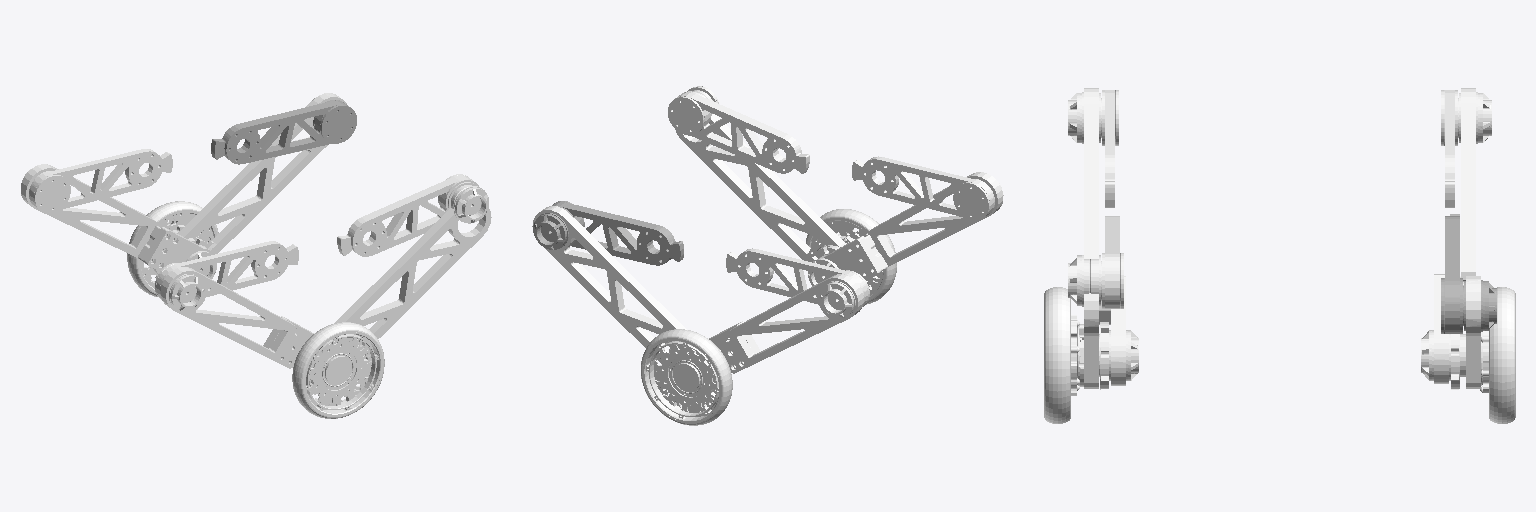
URDF robot description (infantry-rl-sim):
<?xml version='1.0' encoding='utf-8'?>
<!--
  infantry-rl-sim : Isaac Sim 5.1.0 asset for the five-bar wheel-leg.
  GENERATED by assets/infantry-rl/tools/build_sim_urdf.py . Do not hand-edit.
  Derived from infantry-rl/urdf/infantry-rl.urdf (the raw SW export, a legal tree).
  Changes, and nothing else:
    * right_*_knee / right_wheel axis signs flipped so both legs share one sign
      convention (their parent frames carry rpy 0 0 -pi; see the generator docstring)
    * hip axis noise 9.9049E-05 cleaned to 0
    * right-leg joint limit ranges re-assigned by mechanical role (the export had
      front and back swapped on that leg)
    * limits re-referenced onto the joint zero of the assembled pose
  Geometry, inertias and meshes are untouched.
  The closed loop is NOT represented here: a PhysX articulation cannot close a loop.
  It is enforced by the five-bar solver in the environment (tools/five_bar.py).
  See assets/infantry-rl/README.md .
-->
<robot name="infantry-rl-sim">
  <link name="base_link">
    <inertial>
      <origin xyz="-0.0065755 0.00014755 0.16552" rpy="0 0 0" />
      <mass value="9.3897" />
      <inertia ixx="0.011927" ixy="-1.1541E-05" ixz="6.2519E-05" iyy="0.01528" iyz="1.1611E-05" izz="0.018002" />
    </inertial>
    <visual>
      <origin xyz="0 0 0" rpy="0 0 0" />
      <geometry>
        <mesh filename="package://infantry-rl/meshes/base_link.STL" />
      </geometry>
      <material name="">
        <color rgba="0.89804 0.91765 0.92941 1" />
      </material>
    </visual>
    <collision>
      <origin xyz="0 0 0" rpy="0 0 0" />
      <geometry>
        <mesh filename="package://infantry-rl/meshes/base_link.STL" />
      </geometry>
    </collision>
  </link>
  <link name="left_front_ham">
    <inertial>
      <origin xyz="0.099289 0.0045817 -0.00068626" rpy="0 0 0" />
      <mass value="0.31578" />
      <inertia ixx="9.1866E-05" ixy="1.6076E-06" ixz="3.6232E-06" iyy="0.00073434" iyz="-1.1128E-08" izz="0.00068952" />
    </inertial>
    <visual>
      <origin xyz="0 0 0" rpy="0 0 0" />
      <geometry>
        <mesh filename="package://infantry-rl/meshes/left_front_ham.STL" />
      </geometry>
      <material name="">
        <color rgba="0.75294 0.75294 0.75294 1" />
      </material>
    </visual>
    <collision>
      <origin xyz="0 0 0" rpy="0 0 0" />
      <geometry>
        <mesh filename="package://infantry-rl/meshes/left_front_ham.STL" />
      </geometry>
    </collision>
  </link>
  <joint name="left_front_hip" type="revolute">
    <origin xyz="0.075033 0.168 0.128" rpy="0 0 0" />
    <parent link="base_link" />
    <child link="left_front_ham" />
    <axis xyz="0 1 0" />
    <limit lower="-0.184047" upper="1.305207" effort="40" velocity="16.755" />
  </joint>
  <link name="left_front_calf">
    <inertial>
      <origin xyz="-0.17027 -0.003571 -0.12119" rpy="0 0 0" />
      <mass value="0.69516" />
      <inertia ixx="0.0012193" ixy="1.2983E-06" ixz="-0.0011663" iyy="0.0032071" iyz="6.818E-07" izz="0.0020449" />
    </inertial>
    <visual>
      <origin xyz="0 0 0" rpy="0 0 0" />
      <geometry>
        <mesh filename="package://infantry-rl/meshes/left_front_calf.STL" />
      </geometry>
      <material name="">
        <color rgba="1 1 1 1" />
      </material>
    </visual>
    <collision>
      <origin xyz="0 0 0" rpy="0 0 0" />
      <geometry>
        <mesh filename="package://infantry-rl/meshes/left_front_calf.STL" />
      </geometry>
    </collision>
  </link>
  <joint name="left_front_knee" type="revolute">
    <origin xyz="0.145 0.0275 -0.00099998" rpy="0 0 0" />
    <parent link="left_front_ham" />
    <child link="left_front_calf" />
    <axis xyz="0 -1 0" />
    <limit lower="-0.162714" upper="1.836403" effort="40" velocity="16.755" />
  </joint>
  <link name="left_wheel">
    <inertial>
      <origin xyz="-3.0976E-14 -0.0013569 -2.6729E-14" rpy="0 0 0" />
      <mass value="0.10335" />
      <inertia ixx="0.00019945" ixy="-4.2589E-18" ixz="5.6282E-15" iyy="0.00038938" iyz="-3.5512E-18" izz="0.00019945" />
    </inertial>
    <visual>
      <origin xyz="0 0 0" rpy="0 0 0" />
      <geometry>
        <mesh filename="package://infantry-rl/meshes/left_wheel.STL" />
      </geometry>
      <material name="">
        <color rgba="1 1 1 1" />
      </material>
    </visual>
    <collision>
      <origin xyz="0 0 0" rpy="0 0 0" />
      <geometry>
        <mesh filename="package://infantry-rl/meshes/left_wheel.STL" />
      </geometry>
    </collision>
  </link>
  <joint name="left_wheel" type="continuous">
    <origin xyz="-0.22 0.023445 -0.15653" rpy="0 0 0" />
    <parent link="left_front_calf" />
    <child link="left_wheel" />
    <axis xyz="0 -1 0" />
    <limit effort="3.69" velocity="61.471" />
  </joint>
  <link name="left_back_ham">
    <inertial>
      <origin xyz="-0.10449 0.0052588 -0.00071934" rpy="0 0 0" />
      <mass value="0.24697" />
      <inertia ixx="6.5626E-05" ixy="-2.7569E-14" ixz="-3.2252E-06" iyy="0.00051978" iyz="-1.4529E-15" izz="0.00048514" />
    </inertial>
    <visual>
      <origin xyz="0 0 0" rpy="0 0 0" />
      <geometry>
        <mesh filename="package://infantry-rl/meshes/left_back_ham.STL" />
      </geometry>
      <material name="">
        <color rgba="1 1 1 1" />
      </material>
    </visual>
    <collision>
      <origin xyz="0 0 0" rpy="0 0 0" />
      <geometry>
        <mesh filename="package://infantry-rl/meshes/left_back_ham.STL" />
      </geometry>
    </collision>
  </link>
  <joint name="left_back_hip" type="revolute">
    <origin xyz="-0.074967 0.1655 0.128" rpy="0 0 0" />
    <parent link="base_link" />
    <child link="left_back_ham" />
    <axis xyz="0 1 0" />
    <limit lower="-1.822593" upper="0.184012" effort="40" velocity="16.755" />
  </joint>
  <link name="left_back_calf">
    <inertial>
      <origin xyz="0.12063 -0.015691 -0.087029" rpy="0 0 0" />
      <mass value="0.33194" />
      <inertia ixx="0.00045896" ixy="6.3092E-07" ixz="0.00048031" iyy="0.0012309" iyz="-4.9601E-07" izz="0.00078405" />
    </inertial>
    <visual>
      <origin xyz="0 0 0" rpy="0 0 0" />
      <geometry>
        <mesh filename="package://infantry-rl/meshes/left_back_calf.STL" />
      </geometry>
      <material name="">
        <color rgba="1 1 1 1" />
      </material>
    </visual>
    <collision>
      <origin xyz="0 0 0" rpy="0 0 0" />
      <geometry>
        <mesh filename="package://infantry-rl/meshes/left_back_calf.STL" />
      </geometry>
    </collision>
  </link>
  <joint name="left_back_knee" type="revolute">
    <origin xyz="-0.145 0.025 -0.00099998" rpy="0 0 0" />
    <parent link="left_back_ham" />
    <child link="left_back_calf" />
    <axis xyz="0 -1 0" />
    <limit lower="-1.836403" upper="0.162697" effort="40" velocity="16.755" />
  </joint>
  <link name="right_front_ham">
    <inertial>
      <origin xyz="-0.099289 0.0044803 -0.00068626" rpy="0 0 0" />
      <mass value="0.31578" />
      <inertia ixx="9.1866E-05" ixy="1.6076E-06" ixz="-3.6232E-06" iyy="0.00073434" iyz="1.1128E-08" izz="0.00068952" />
    </inertial>
    <visual>
      <origin xyz="0 0 0" rpy="0 0 0" />
      <geometry>
        <mesh filename="package://infantry-rl/meshes/right_front_ham.STL" />
      </geometry>
      <material name="">
        <color rgba="1 1 1 1" />
      </material>
    </visual>
    <collision>
      <origin xyz="0 0 0" rpy="0 0 0" />
      <geometry>
        <mesh filename="package://infantry-rl/meshes/right_front_ham.STL" />
      </geometry>
    </collision>
  </link>
  <joint name="right_front_hip" type="revolute">
    <origin xyz="0.075 -0.168 0.128" rpy="0 0 -3.1416" />
    <parent link="base_link" />
    <child link="right_front_ham" />
    <axis xyz="0 -1 0" />
    <limit lower="-0.184047" upper="1.305207" effort="40" velocity="16.755" />
  </joint>
  <link name="right_front_calf">
    <inertial>
      <origin xyz="0.16803 -0.00088924 -0.14773" rpy="0 0 0" />
      <mass value="0.69516" />
      <inertia ixx="0.0012198" ixy="1.4187E-06" ixz="0.0011653" iyy="0.0032071" iyz="-1.1129E-06" izz="0.0020443" />
    </inertial>
    <visual>
      <origin xyz="0.002270 0.000000 0.026549" rpy="0 0 0" />
      <geometry>
        <mesh filename="package://infantry-rl/meshes/right_front_calf.STL" />
      </geometry>
      <material name="">
        <color rgba="1 1 1 1" />
      </material>
    </visual>
    <collision>
      <origin xyz="0.002270 0.000000 0.026549" rpy="0 0 0" />
      <geometry>
        <mesh filename="package://infantry-rl/meshes/right_front_calf.STL" />
      </geometry>
    </collision>
  </link>
  <joint name="right_front_knee" type="revolute">
    <origin xyz="-0.145 0.0275 -0.00099998" rpy="0 0 0" />
    <parent link="right_front_ham" />
    <child link="right_front_calf" />
    <axis xyz="0 1 0" />
    <limit lower="-0.162714" upper="1.836404" effort="40" velocity="16.755" />
  </joint>
  <link name="right_wheel">
    <inertial>
      <origin xyz="0.0084057 -0.0013569 -0.012542" rpy="0 0 0" />
      <mass value="0.10335" />
      <inertia ixx="0.00019945" ixy="2.5041E-19" ixz="4.2304E-14" iyy="0.00038938" iyz="-6.16E-18" izz="0.00019945" />
    </inertial>
    <visual>
      <origin xyz="-0.008400 0.005000 0.012539" rpy="0 0 0" />
      <geometry>
        <mesh filename="package://infantry-rl/meshes/right_wheel.STL" />
      </geometry>
      <material name="">
        <color rgba="1 1 1 1" />
      </material>
    </visual>
    <collision>
      <origin xyz="-0.008400 0.005000 0.012539" rpy="0 0 0" />
      <geometry>
        <mesh filename="package://infantry-rl/meshes/right_wheel.STL" />
      </geometry>
    </collision>
  </link>
  <joint name="right_wheel" type="continuous">
    <origin xyz="0.22 0.023445 -0.15653" rpy="0 0 0" />
    <parent link="right_front_calf" />
    <child link="right_wheel" />
    <axis xyz="0 1 0" />
    <limit effort="3.69" velocity="61.471" />
  </joint>
  <link name="right_back_ham">
    <inertial>
      <origin xyz="0.10449 0.0052588 -0.00071934" rpy="0 0 0" />
      <mass value="0.24697" />
      <inertia ixx="6.5626E-05" ixy="-2.7604E-14" ixz="3.2252E-06" iyy="0.00051978" iyz="-2.687E-16" izz="0.00048514" />
    </inertial>
    <visual>
      <origin xyz="0 0 0" rpy="0 0 0" />
      <geometry>
        <mesh filename="package://infantry-rl/meshes/right_back_ham.STL" />
      </geometry>
      <material name="">
        <color rgba="1 1 1 1" />
      </material>
    </visual>
    <collision>
      <origin xyz="0 0 0" rpy="0 0 0" />
      <geometry>
        <mesh filename="package://infantry-rl/meshes/right_back_ham.STL" />
      </geometry>
    </collision>
  </link>
  <joint name="right_back_hip" type="revolute">
    <origin xyz="-0.075 -0.1705 0.128" rpy="0 0 -3.1416" />
    <parent link="base_link" />
    <child link="right_back_ham" />
    <axis xyz="0 -1 0" />
    <limit lower="-1.822593" upper="0.184012" effort="40" velocity="16.755" />
  </joint>
  <link name="right_back_calf">
    <inertial>
      <origin xyz="-0.12063 -0.015703 -0.087029" rpy="0 0 0" />
      <mass value="0.33194" />
      <inertia ixx="0.00045896" ixy="6.3092E-07" ixz="-0.00048031" iyy="0.0012309" iyz="4.9601E-07" izz="0.00078405" />
    </inertial>
    <visual>
      <origin xyz="0 0 0" rpy="0 0 0" />
      <geometry>
        <mesh filename="package://infantry-rl/meshes/right_back_calf.STL" />
      </geometry>
      <material name="">
        <color rgba="1 1 1 1" />
      </material>
    </visual>
    <collision>
      <origin xyz="0 0 0" rpy="0 0 0" />
      <geometry>
        <mesh filename="package://infantry-rl/meshes/right_back_calf.STL" />
      </geometry>
    </collision>
  </link>
  <joint name="right_back_knee" type="revolute">
    <origin xyz="0.145 0.025 -0.00099998" rpy="0 0 0" />
    <parent link="right_back_ham" />
    <child link="right_back_calf" />
    <axis xyz="0 1 0" />
    <limit lower="-1.836403" upper="0.162697" effort="40" velocity="16.755" />
  </joint>
  <loop_joint name="left_calf_axle" type="spherical">
    <link1 link="left_wheel" rpy="0 0 0" xyz="0.00000000 0.00000000 0.00000000" />
    <link2 link="left_back_calf" rpy="0 0 0" xyz="0.22000000 0.02844500 -0.15653000" />
  </loop_joint>
  <loop_joint name="right_calf_axle" type="spherical">
    <link1 link="right_wheel" rpy="0 0 0" xyz="-0.00000000 0.00000000 0.00000000" />
    <link2 link="right_back_calf" rpy="0 0 0" xyz="-0.21999998 0.02344390 -0.15653000" />
  </loop_joint>
</robot>

--- Facts derived from the render (not from the file) ---
The picture shows the robot from 3 angles, left to right: view 1: azimuth 30°, elevation 25°; view 2: azimuth 150°, elevation 25°; view 3: azimuth 270°, elevation 25°; orthographic projection.
Model infantry-rl-sim with 11 links and 10 joints (8 revolute, 2 continuous), rooted at base_link, posed every joint at zero.
Visible links, largest first — view 1: right_front_calf, left_front_calf, right_front_ham, left_front_ham, left_back_ham, left_back_calf, right_back_calf, right_back_ham, right_wheel, left_wheel; view 2: left_front_calf, right_front_calf, right_front_ham, right_back_ham, left_front_ham, right_back_calf, left_back_calf, left_back_ham, left_wheel, right_wheel; view 3: left_back_calf, right_back_calf, right_front_calf, left_front_calf, right_wheel, left_wheel, right_front_ham, left_front_ham, left_back_ham, right_back_ham.
Link boxes in pixels (<box>): right_front_calf: <box>304,204,491,409</box>; left_front_calf: <box>141,93,346,288</box>; right_front_ham: <box>337,174,488,256</box>; left_front_ham: <box>211,98,356,164</box>; left_back_ham: <box>25,149,172,213</box>; left_back_calf: <box>21,164,213,270</box>; right_back_calf: <box>161,267,313,368</box>; right_back_ham: <box>155,241,298,310</box>; right_wheel: <box>292,322,384,418</box>; left_wheel: <box>127,201,218,296</box>; left_front_calf: <box>532,206,720,416</box>; right_front_calf: <box>675,114,883,295</box>; right_front_ham: <box>668,86,809,173</box>; right_back_ham: <box>852,156,1001,220</box>; left_front_ham: <box>533,201,683,265</box>; right_back_calf: <box>819,172,1003,279</box>; left_back_calf: <box>709,274,863,373</box>; left_back_ham: <box>726,248,869,317</box>; left_wheel: <box>641,329,732,425</box>; right_wheel: <box>806,209,896,304</box>; left_back_calf: <box>1434,88,1475,383</box>; right_back_calf: <box>1084,88,1125,385</box>; right_front_calf: <box>1071,293,1138,395</box>; left_front_calf: <box>1421,276,1488,392</box>; right_wheel: <box>1044,287,1070,423</box>; left_wheel: <box>1489,287,1515,423</box>; right_front_ham: <box>1068,216,1123,308</box>; left_front_ham: <box>1441,214,1496,333</box>; left_back_ham: <box>1441,90,1491,207</box>; right_back_ham: <box>1068,90,1118,207</box>.
Bounding box of the posed robot: 0.4999 × 0.4654 × 0.2786 m (x, y, z).
10 mesh visuals loaded from 11 distinct referenced files (10 binary STL); not drawn: 1 (reference not matched to a file when rendering).
